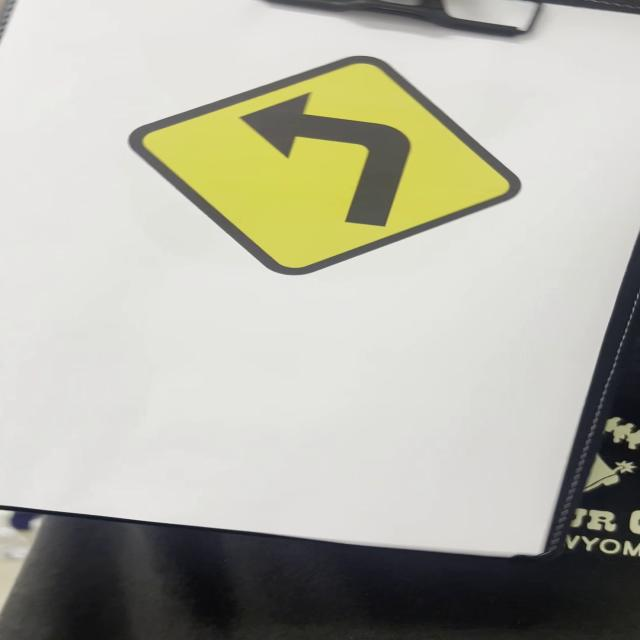left: (125, 60, 538, 279)
